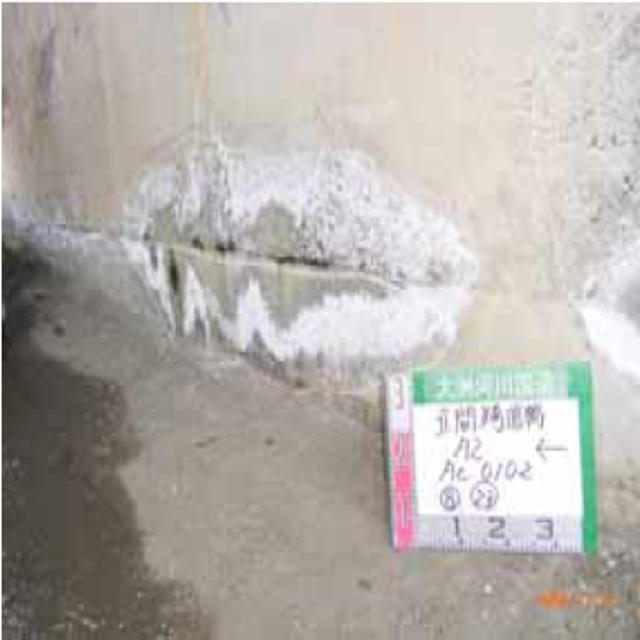freelime: (101, 96, 503, 366)
